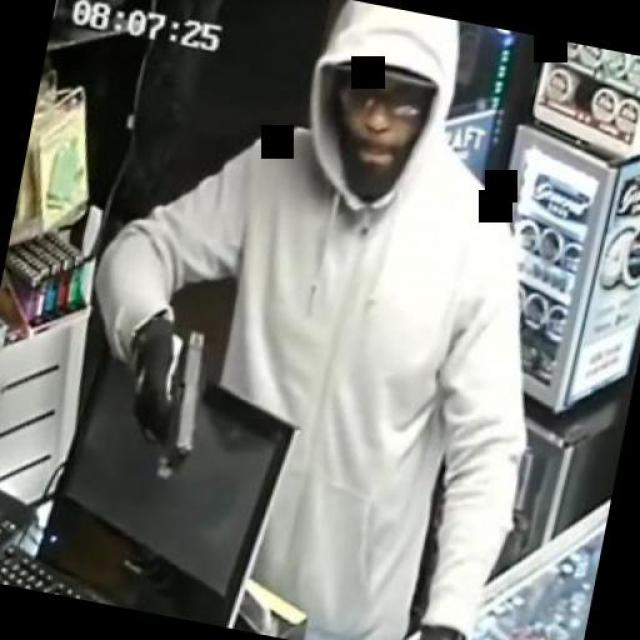gun: (110, 310, 224, 485)
